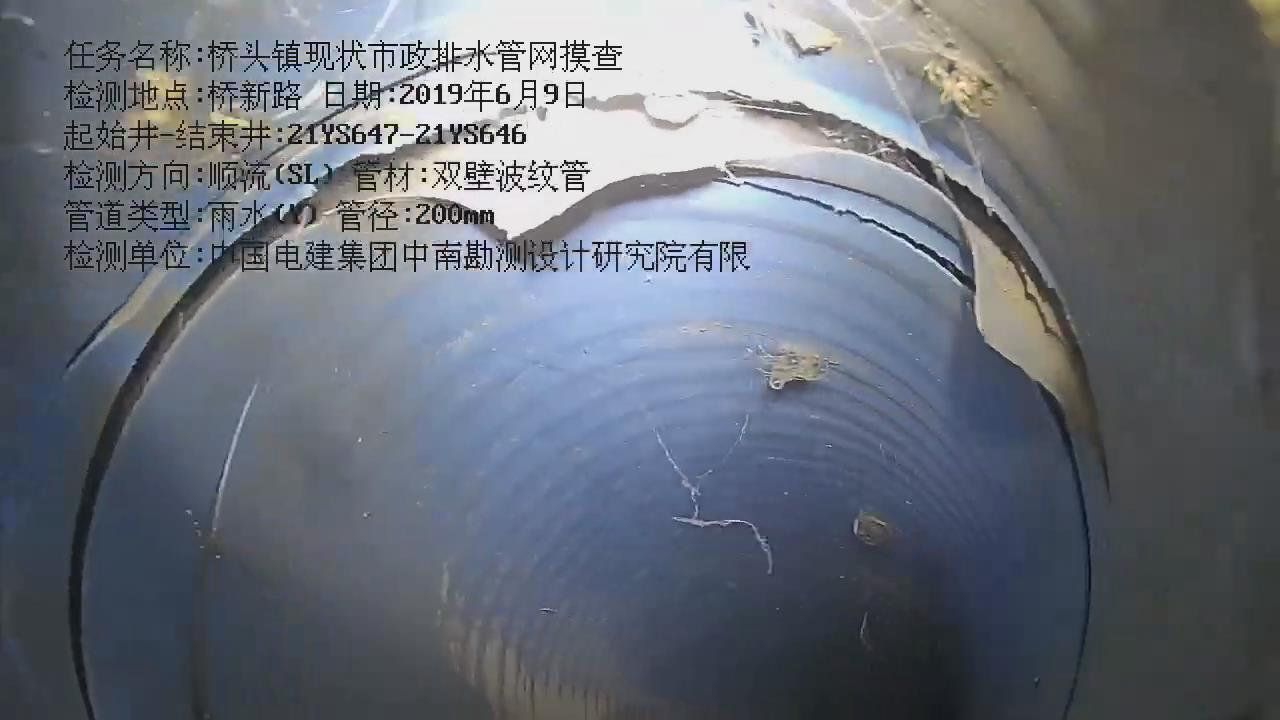PL: (277, 77, 1131, 449)
